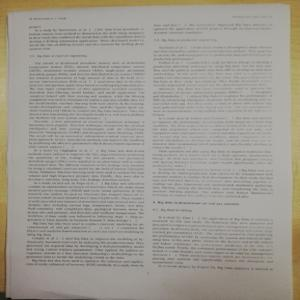text: (150, 116, 274, 198), (151, 46, 274, 114), (150, 213, 277, 271), (27, 60, 146, 120), (26, 186, 147, 221), (24, 237, 147, 267), (28, 152, 147, 183), (28, 122, 147, 150), (27, 26, 145, 51), (151, 20, 273, 36), (27, 221, 148, 237)
